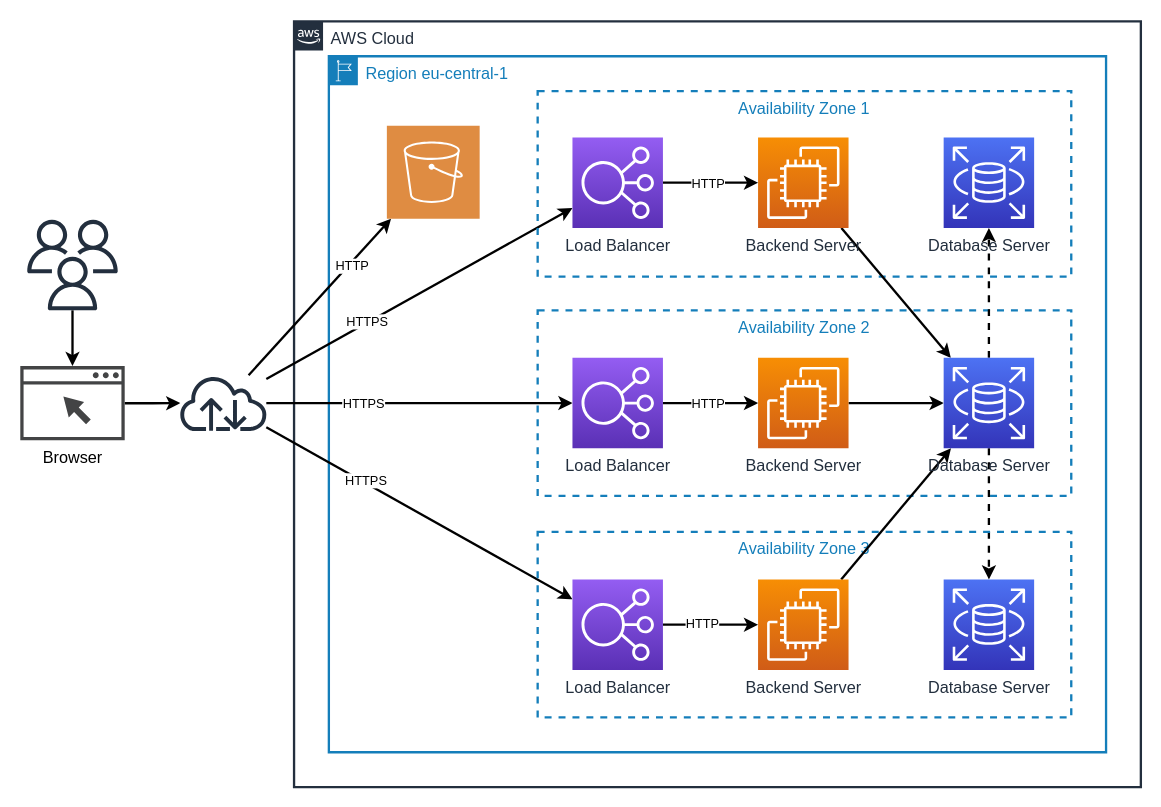
Image size: 1161x807. Some labels were removed from this diagram. The shapes that lost their labels are listed below. From the top down, each one's centre as x and y in pixels, then its label:
the point at 432,171: S3 Website Hosting
the point at 222,402: Internet
